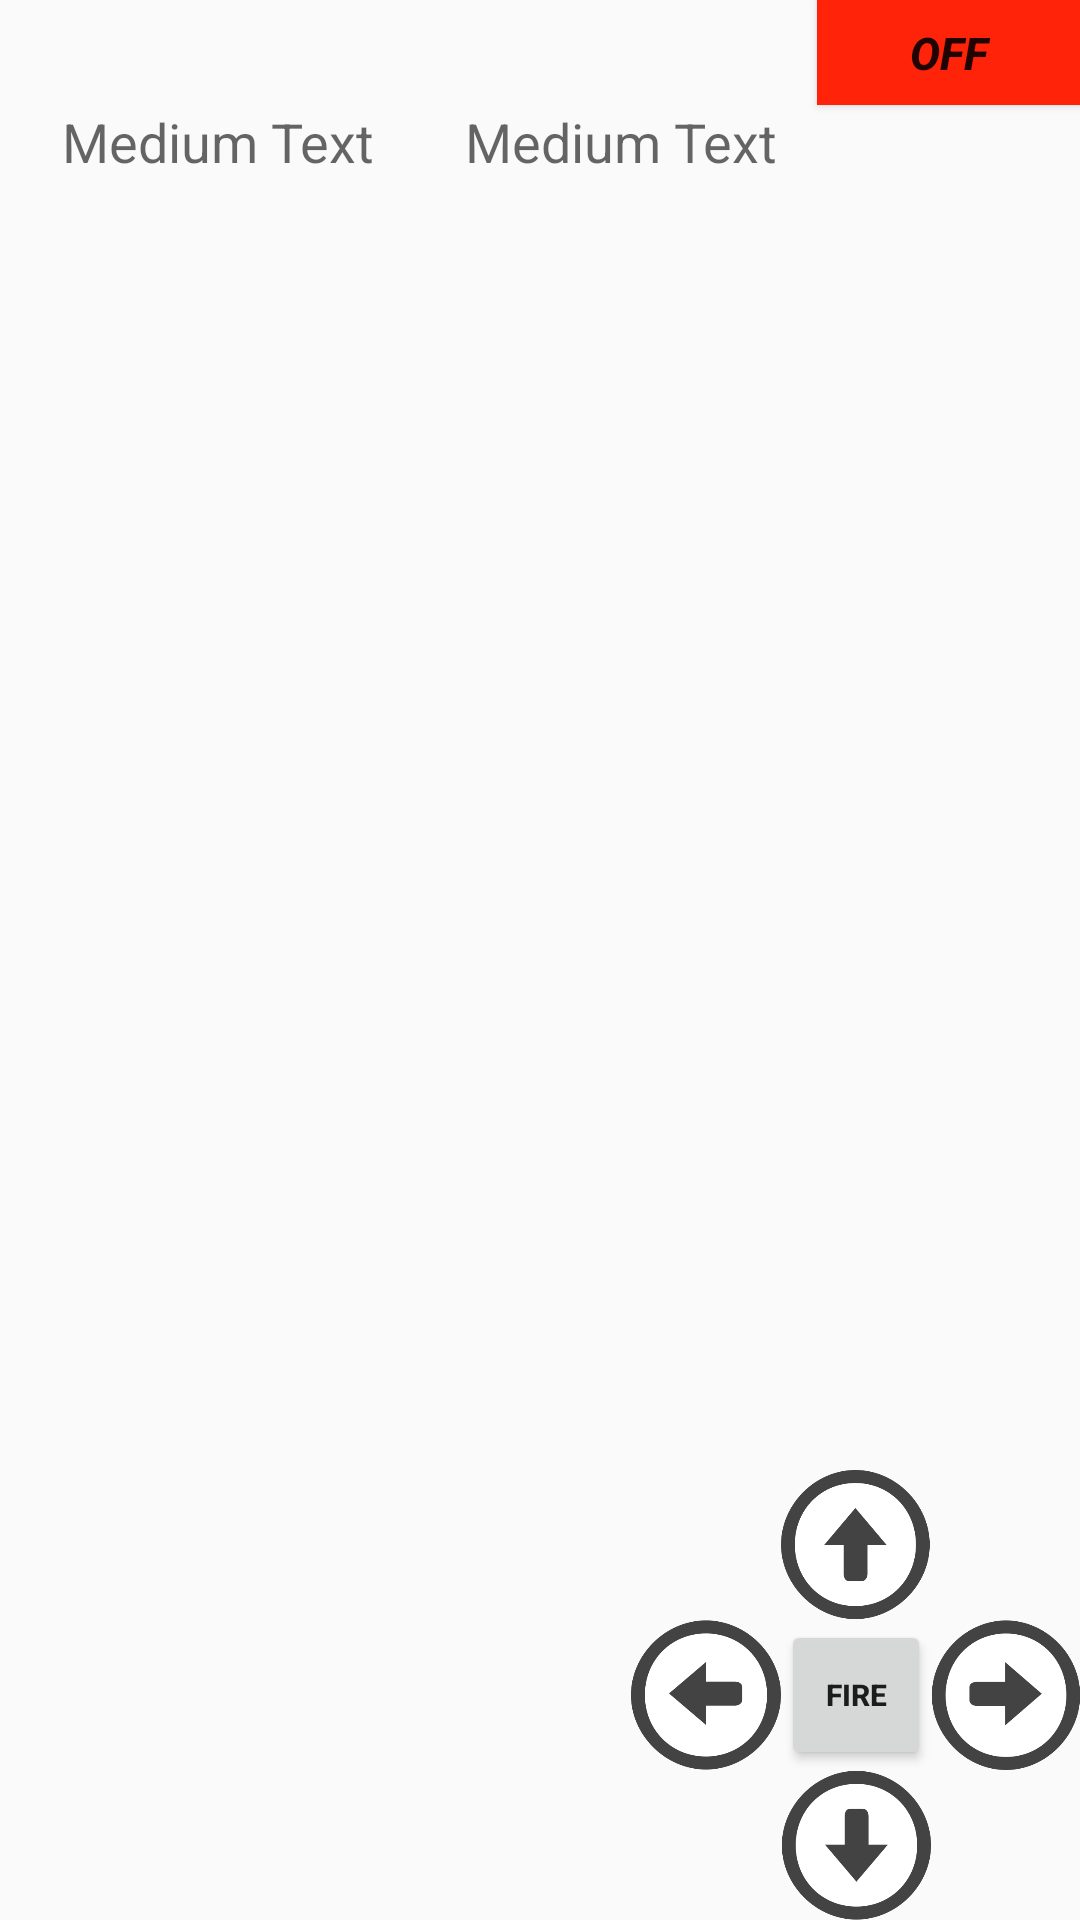

Icons on this 1080 x 1920 Android screen, each with its box as bbox=[x1, y1, x2, y2]:
down arrow: bbox=[782, 1771, 931, 1920]
left arrow: bbox=[631, 1620, 781, 1770]
right arrow: bbox=[932, 1620, 1080, 1770]
up arrow: bbox=[781, 1470, 930, 1619]
